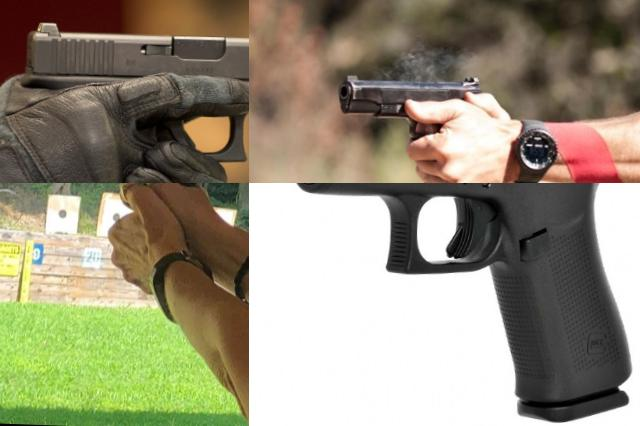handgun: (277, 183, 640, 426), (8, 14, 249, 183), (332, 69, 495, 183), (98, 183, 209, 227)
